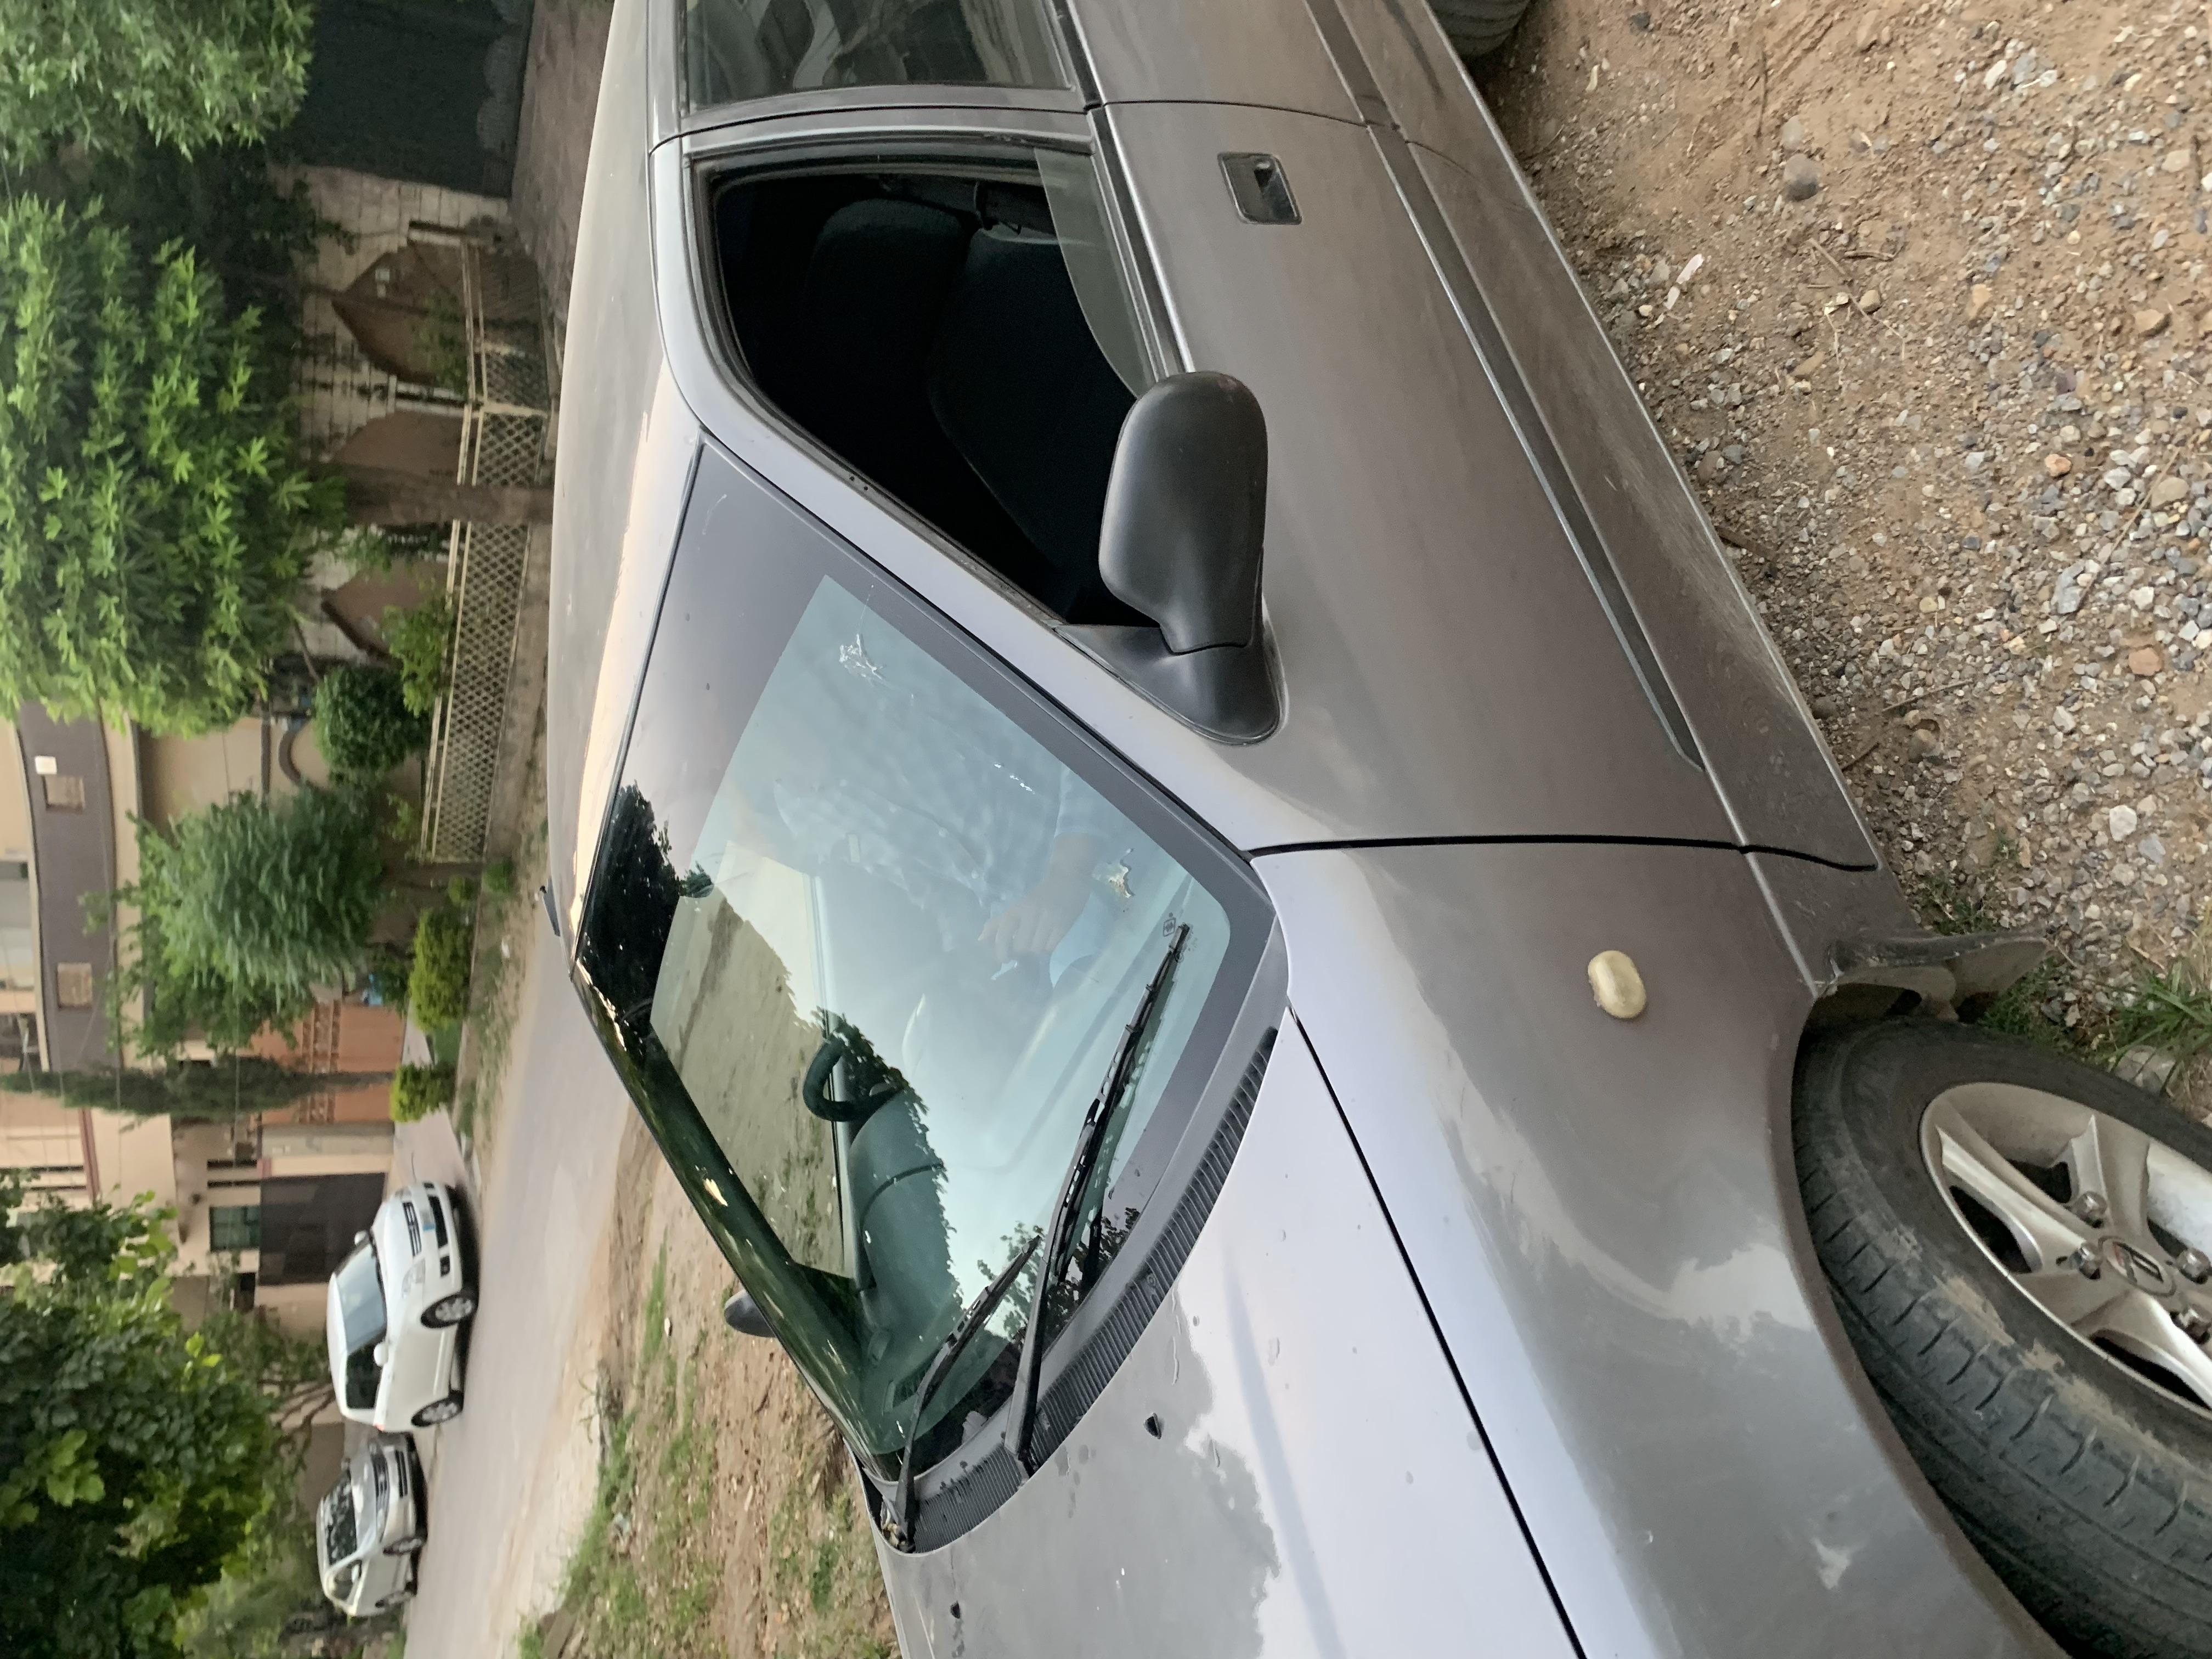windshield: (148, 411, 1669, 988)
